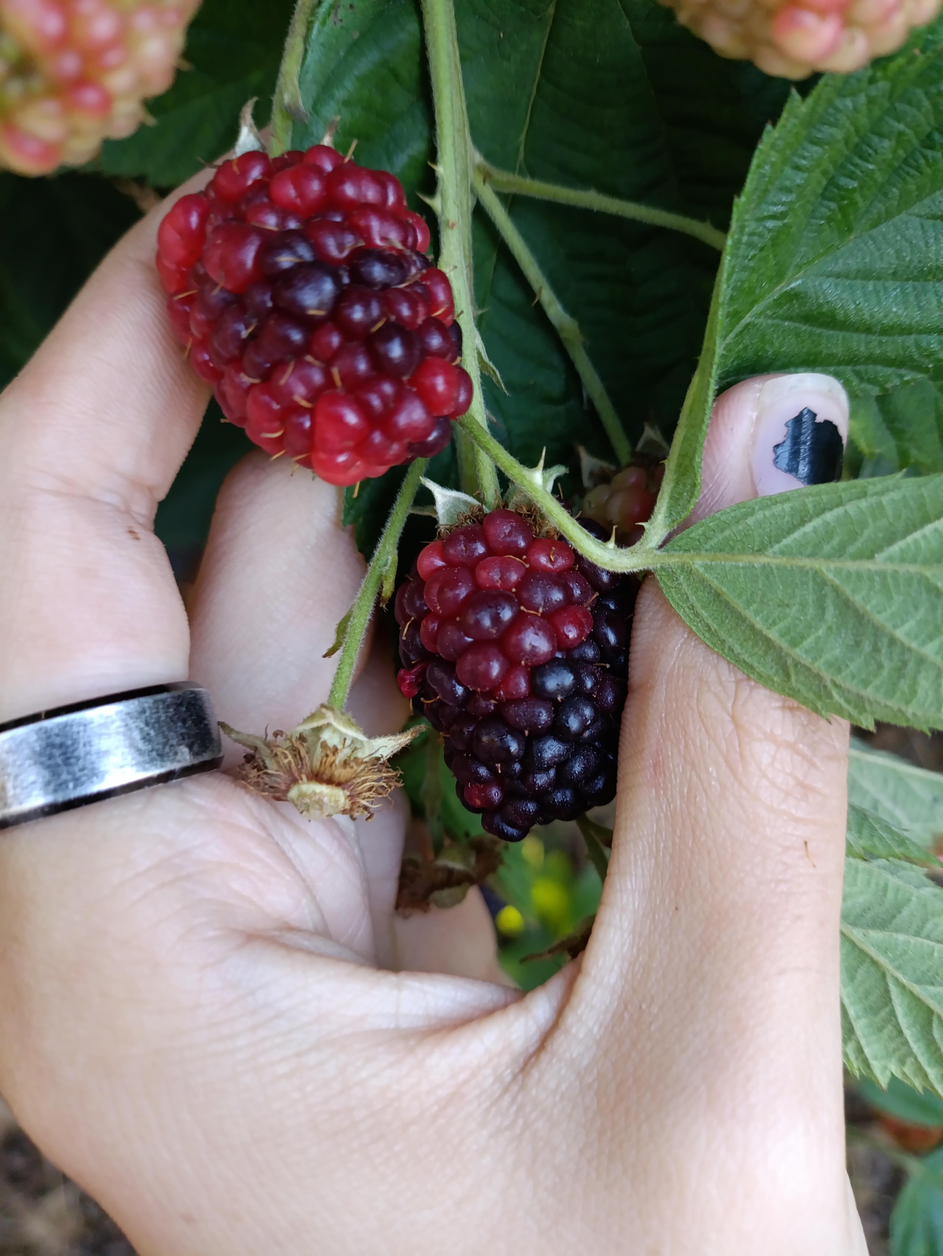naranja: (156, 141, 472, 487), (399, 511, 617, 843)
